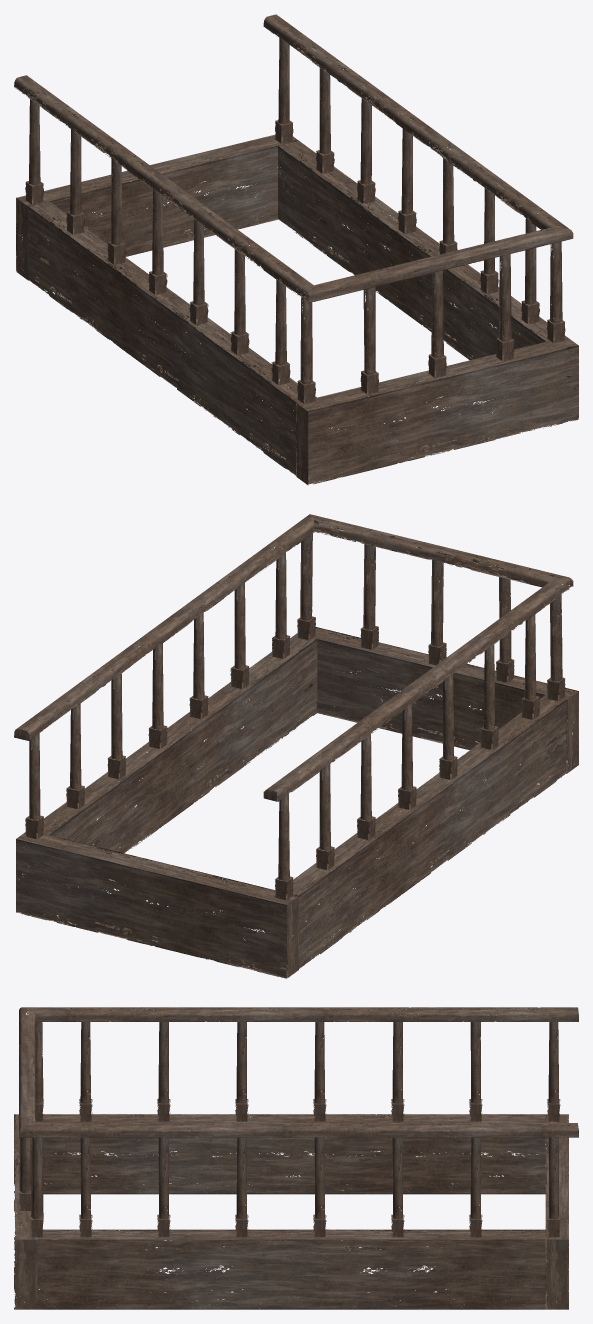
Rendered from SM_stairs_part_02.fbx.
The picture shows the model from 3 angles, top to bottom: view 1: azimuth 30°, elevation 25°; view 2: azimuth 150°, elevation 25°; view 3: azimuth 270°, elevation 25°; orthographic projection. The views are drawn at different scales.
Visible parts, largest first — view 1: SM_stairs_part_02_LOD0; view 2: SM_stairs_part_02_LOD0; view 3: SM_stairs_part_02_LOD0.
Boxes of the visible parts, x1,y1,x2,y2 form: SM_stairs_part_02_LOD0: (14,14,578,485); SM_stairs_part_02_LOD0: (14,514,578,978); SM_stairs_part_02_LOD0: (14,1007,578,1309).
Size of the model in its own units: 230 by 438 by 154.
Materials: 1 (1 with a texture image).
